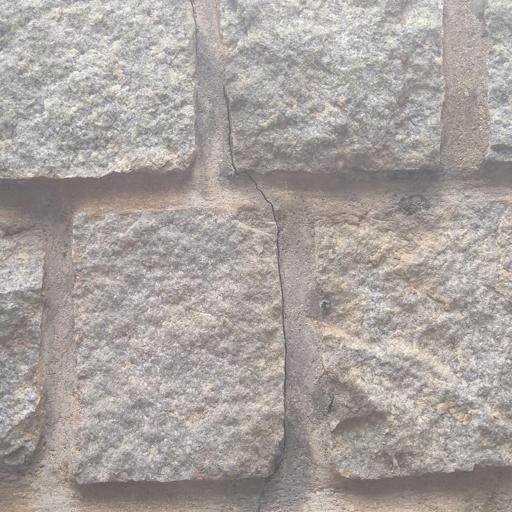minor_crack: (214, 31, 314, 512)
